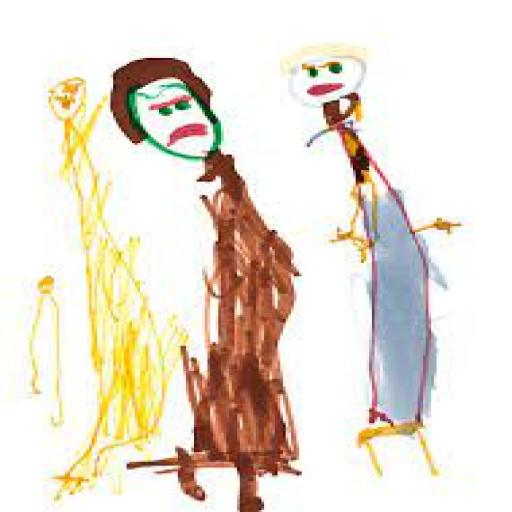person: (281, 46, 498, 495), (108, 59, 321, 512), (37, 80, 166, 502), (23, 270, 87, 451)
